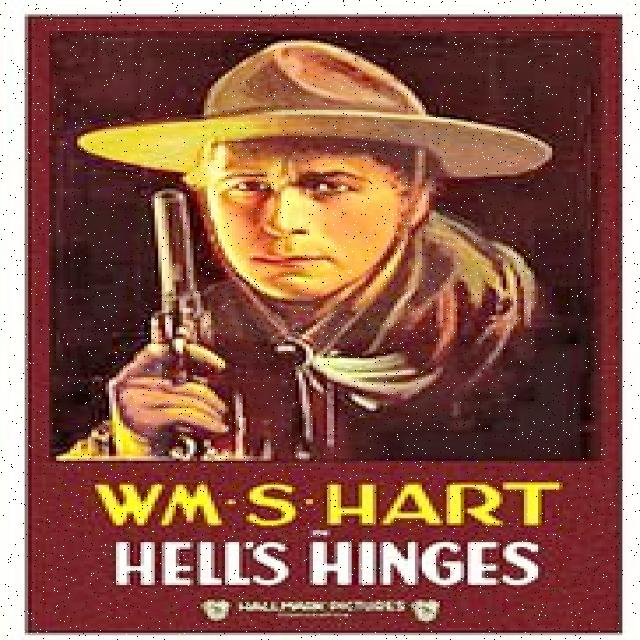movie-judul: (109, 534, 555, 592)
picture: (50, 34, 601, 460)
